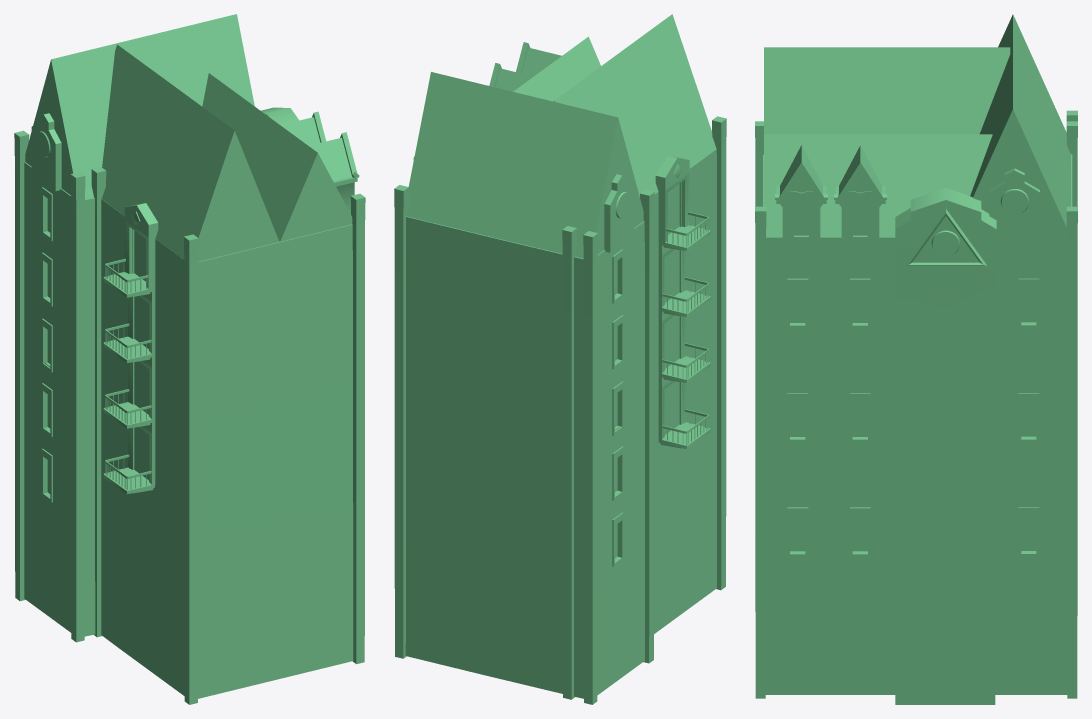
The model's file is Bgr_Building5.fbx.
3 views of the same model, side by side, from view 1: azimuth 30°, elevation 25°; view 2: azimuth 150°, elevation 25°; view 3: azimuth 270°, elevation 25° (orthographic). The views are drawn at different scales.
Visible parts, largest first — view 1: Bgr_Building5; view 2: Bgr_Building5; view 3: Bgr_Building5.
Boxes of the visible parts, <box> form: Bgr_Building5: <box>14,14,365,704</box>; Bgr_Building5: <box>394,14,726,704</box>; Bgr_Building5: <box>755,14,1077,704</box>.
Size of the model in its own units: 1565 by 3844 by 1917.
